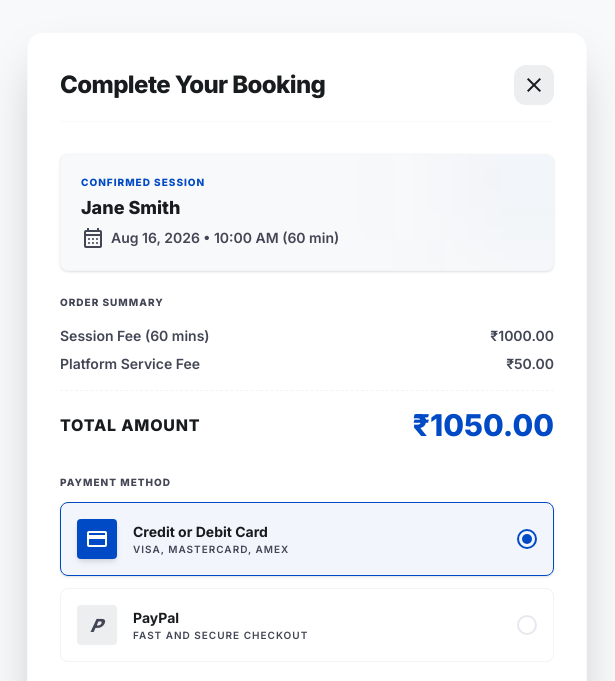
Test: CheckoutPage (MSW integration) › allows switching between card and PayPal methods
Click the text "PayPal" at (156, 617), box [133,608,179,626]
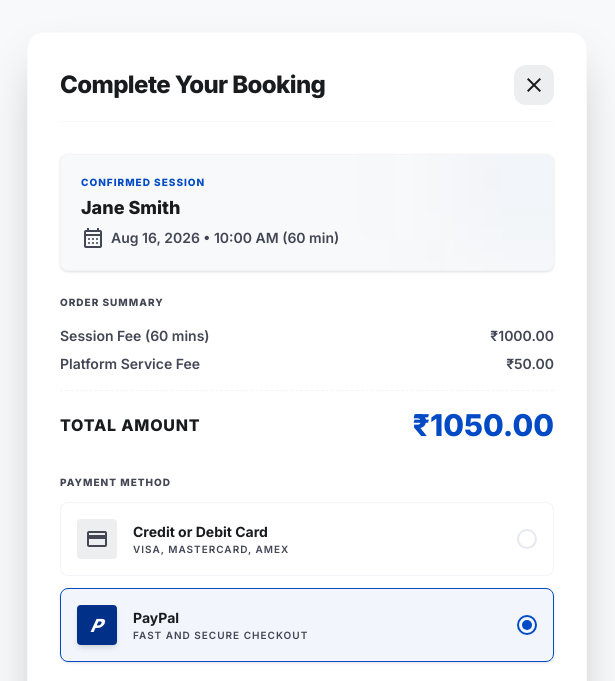
Check: the field with placeholder "john doe" is not shown
Click the text "Credit or Debit Card" at (200, 531), box [133,522,268,540]
(page scrolled)
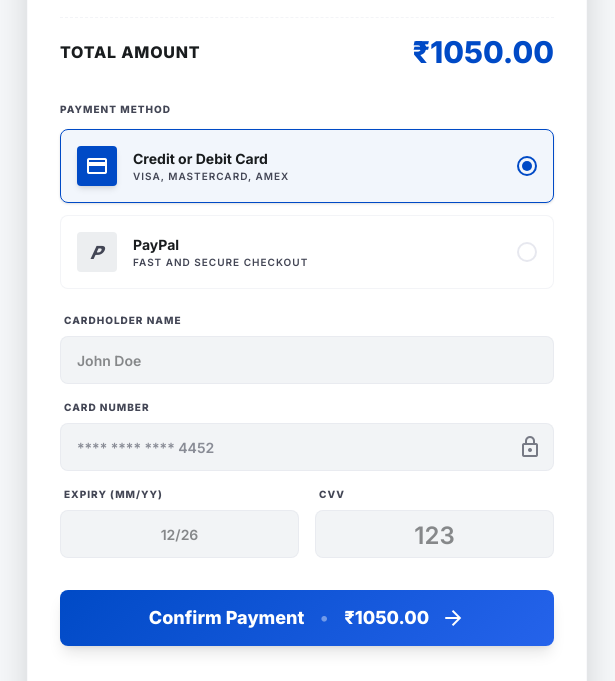
Check: the field with placeholder "John Doe" is shown, box [60,336,554,384]
